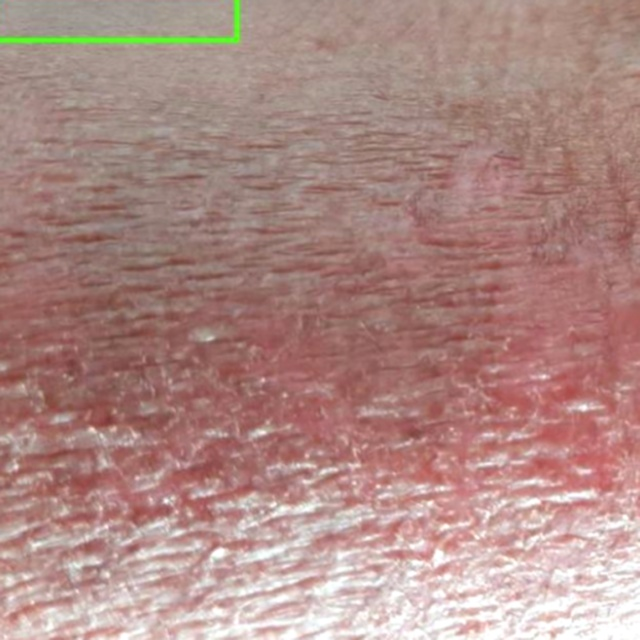Seborrheic Dermatitis: (0, 0, 237, 40)
